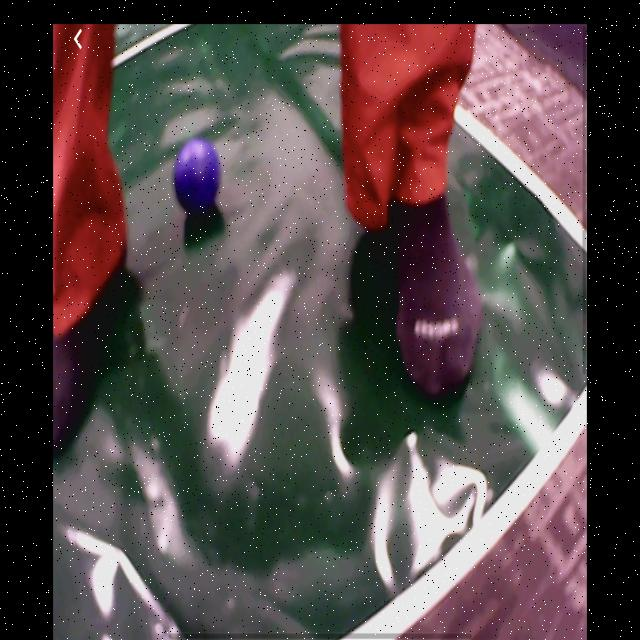ball: (174, 138, 223, 209)
